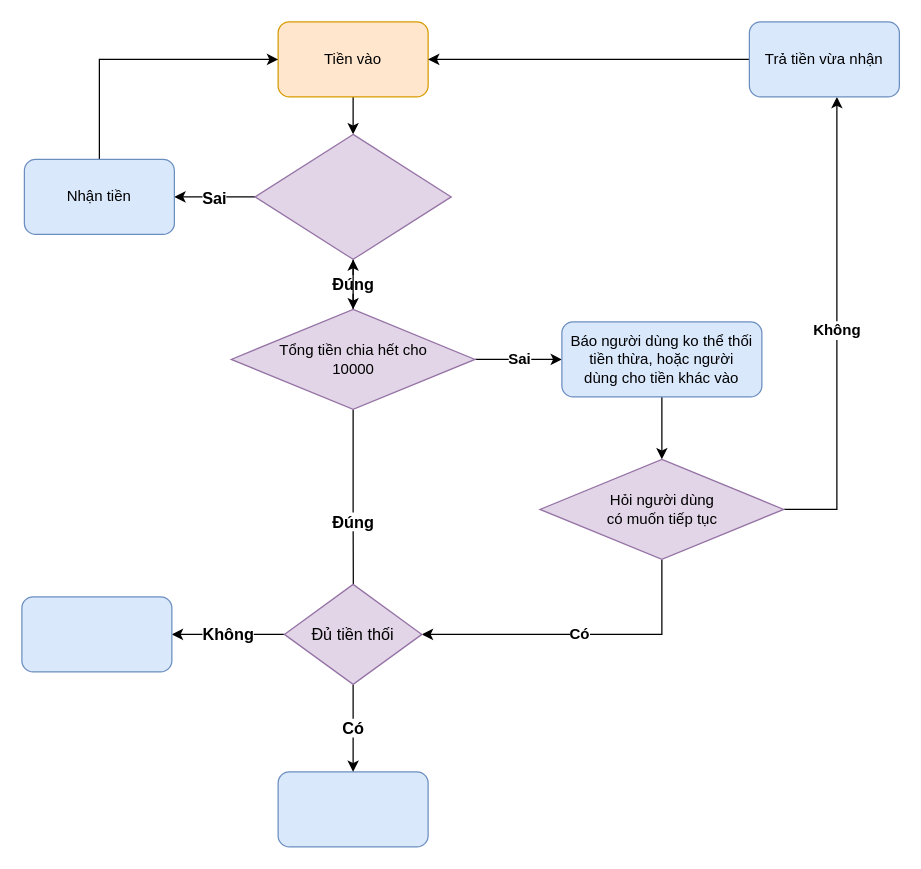
This 921x869 diagram has some shape labels left out. The shapes that lost their labels are listed below. From the top down, each one's centre as x and y in pixels, then its label:
At point (352, 196): "Tổng tiền nhận >= 10k".
At point (96, 634): "Trả lại tiền và thông báo".
At point (352, 809): "Tiến hành chọn sản phẩm và mua hàng".
